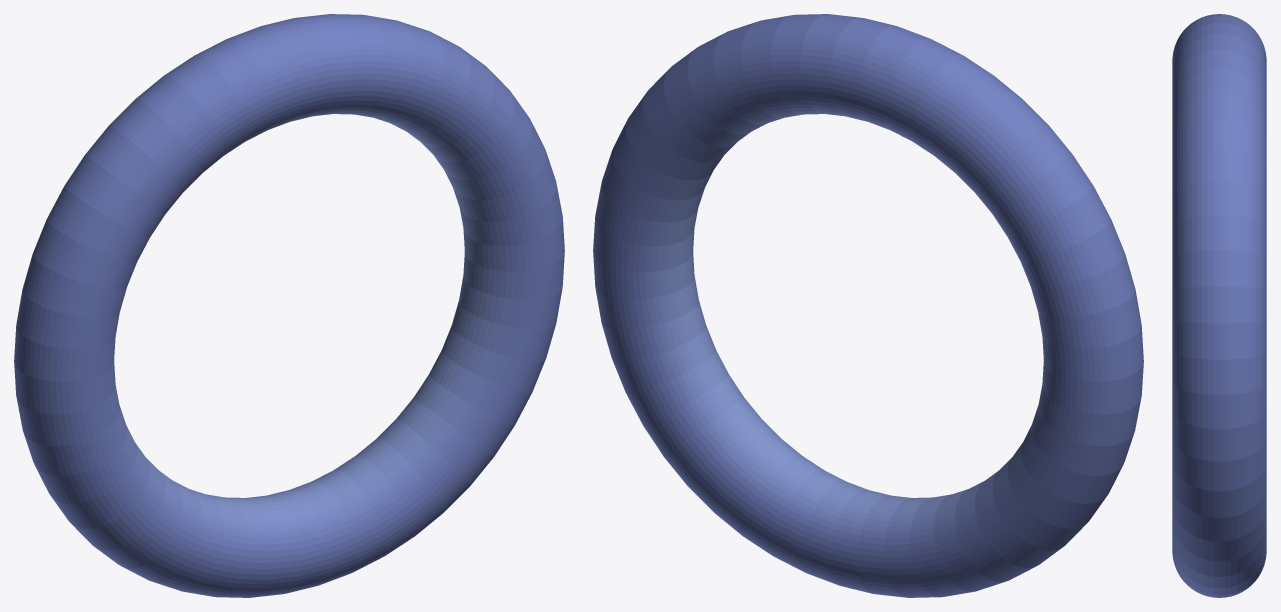
3 views of the same model, side by side, from view 1: azimuth 30°, elevation 25°; view 2: azimuth 150°, elevation 25°; view 3: azimuth 270°, elevation 25° (orthographic). The views are drawn at different scales.
Parts seen in each view (by area): view 1: world; view 2: world; view 3: world.
Boxes of the visible parts, x1=… form: world: x1=14, y1=14, x2=564, y2=597; world: x1=593, y1=14, x2=1143, y2=597; world: x1=1172, y1=14, x2=1266, y2=597.
Size of the model in its own units: 20.67 by 20.63 by 3.33.
